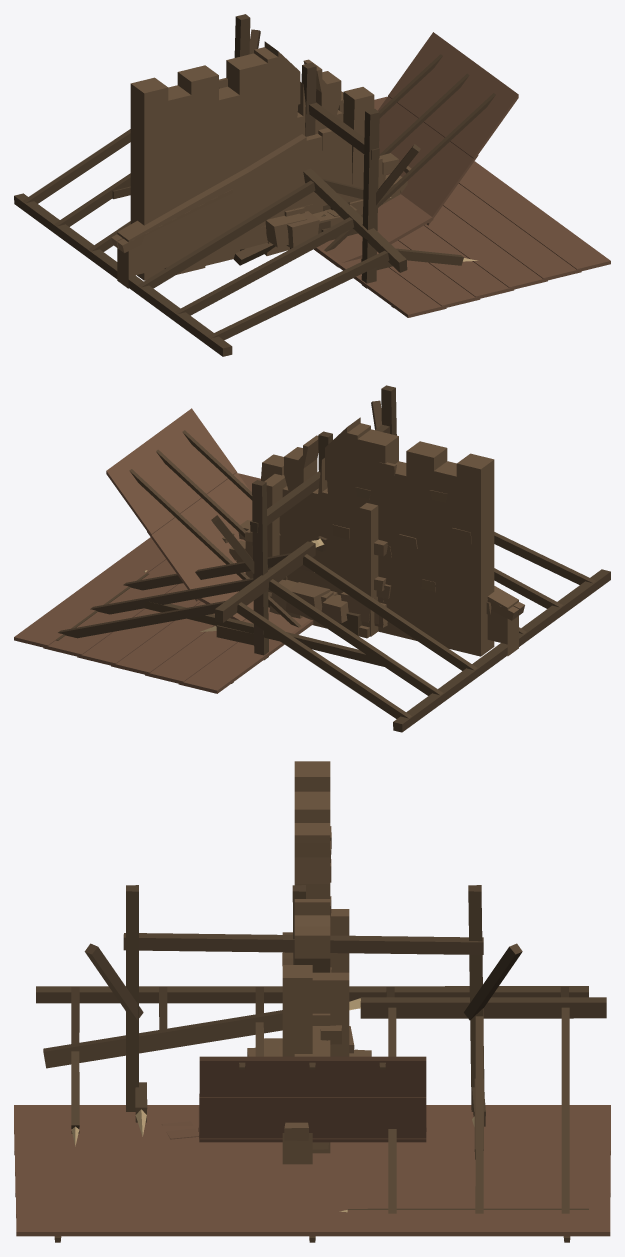
The model's file is CE_bruit_2mm.glb.
The picture shows the model from 3 angles, top to bottom: view 1: azimuth 30°, elevation 25°; view 2: azimuth 150°, elevation 25°; view 3: azimuth 270°, elevation 25°; orthographic projection. The views are drawn at different scales.
Visible parts, largest first — view 1: SM_Farm_WallBreak_North, SM_Farm_RoofPan_Intact, SM_Farm_RoofPan_Fallen, SM_Farm_Truss, SM_Farm_GableBreak, SM_Farm_InteriorFrame, SM_Farm_Rubble_Wall; view 2: SM_Farm_WallBreak_North, SM_Farm_Truss, SM_Farm_RoofPan_Fallen, SM_Farm_RoofPan_Intact, SM_Farm_InteriorFrame, SM_Farm_Jamb_Door, SM_Farm_GableBreak, SM_Farm_Rubble_Wall, SM_Farm_Jamb_Breach, SM_Farm_JoistStubs; view 3: SM_Farm_RoofPan_Intact, SM_Farm_Truss, SM_Farm_RoofPan_Fallen, SM_Farm_InteriorFrame, SM_Farm_WallBreak_North, SM_Farm_GableBreak, SM_Farm_Jamb_Door, SM_Farm_JoistStubs, SM_Farm_Rubble_Wall.
Part boxes in pixels (box(x1,y1,x2,y2)): SM_Farm_WallBreak_North: box(130, 41, 385, 280); SM_Farm_RoofPan_Intact: box(314, 96, 610, 317); SM_Farm_RoofPan_Fallen: box(314, 32, 518, 267); SM_Farm_Truss: box(14, 129, 477, 356); SM_Farm_GableBreak: box(111, 87, 411, 288); SM_Farm_InteriorFrame: box(234, 14, 420, 288); SM_Farm_Rubble_Wall: box(233, 199, 363, 265); SM_Farm_WallBreak_North: box(243, 417, 494, 656); SM_Farm_Truss: box(56, 532, 610, 732); SM_Farm_RoofPan_Fallen: box(106, 408, 312, 634); SM_Farm_RoofPan_Intact: box(14, 473, 313, 693); SM_Farm_InteriorFrame: box(211, 385, 396, 660); SM_Farm_Jamb_Door: box(264, 474, 387, 638); SM_Farm_GableBreak: box(222, 454, 524, 656); SM_Farm_Rubble_Wall: box(268, 576, 387, 627); SM_Farm_Jamb_Breach: box(268, 529, 378, 636); SM_Farm_JoistStubs: box(200, 592, 271, 645); SM_Farm_RoofPan_Intact: box(14, 1105, 610, 1242); SM_Farm_Truss: box(36, 986, 606, 1213); SM_Farm_RoofPan_Fallen: box(162, 1056, 426, 1142); SM_Farm_InteriorFrame: box(84, 885, 522, 1111); SM_Farm_WallBreak_North: box(294, 761, 331, 1153); SM_Farm_GableBreak: box(282, 932, 312, 1164); SM_Farm_Jamb_Door: box(312, 909, 349, 1056); SM_Farm_JoistStubs: box(135, 1082, 485, 1136); SM_Farm_Rubble_Wall: box(247, 1026, 371, 1056).
Bounding box in the file's own units: 6.76 × 3.28 × 6.8.
